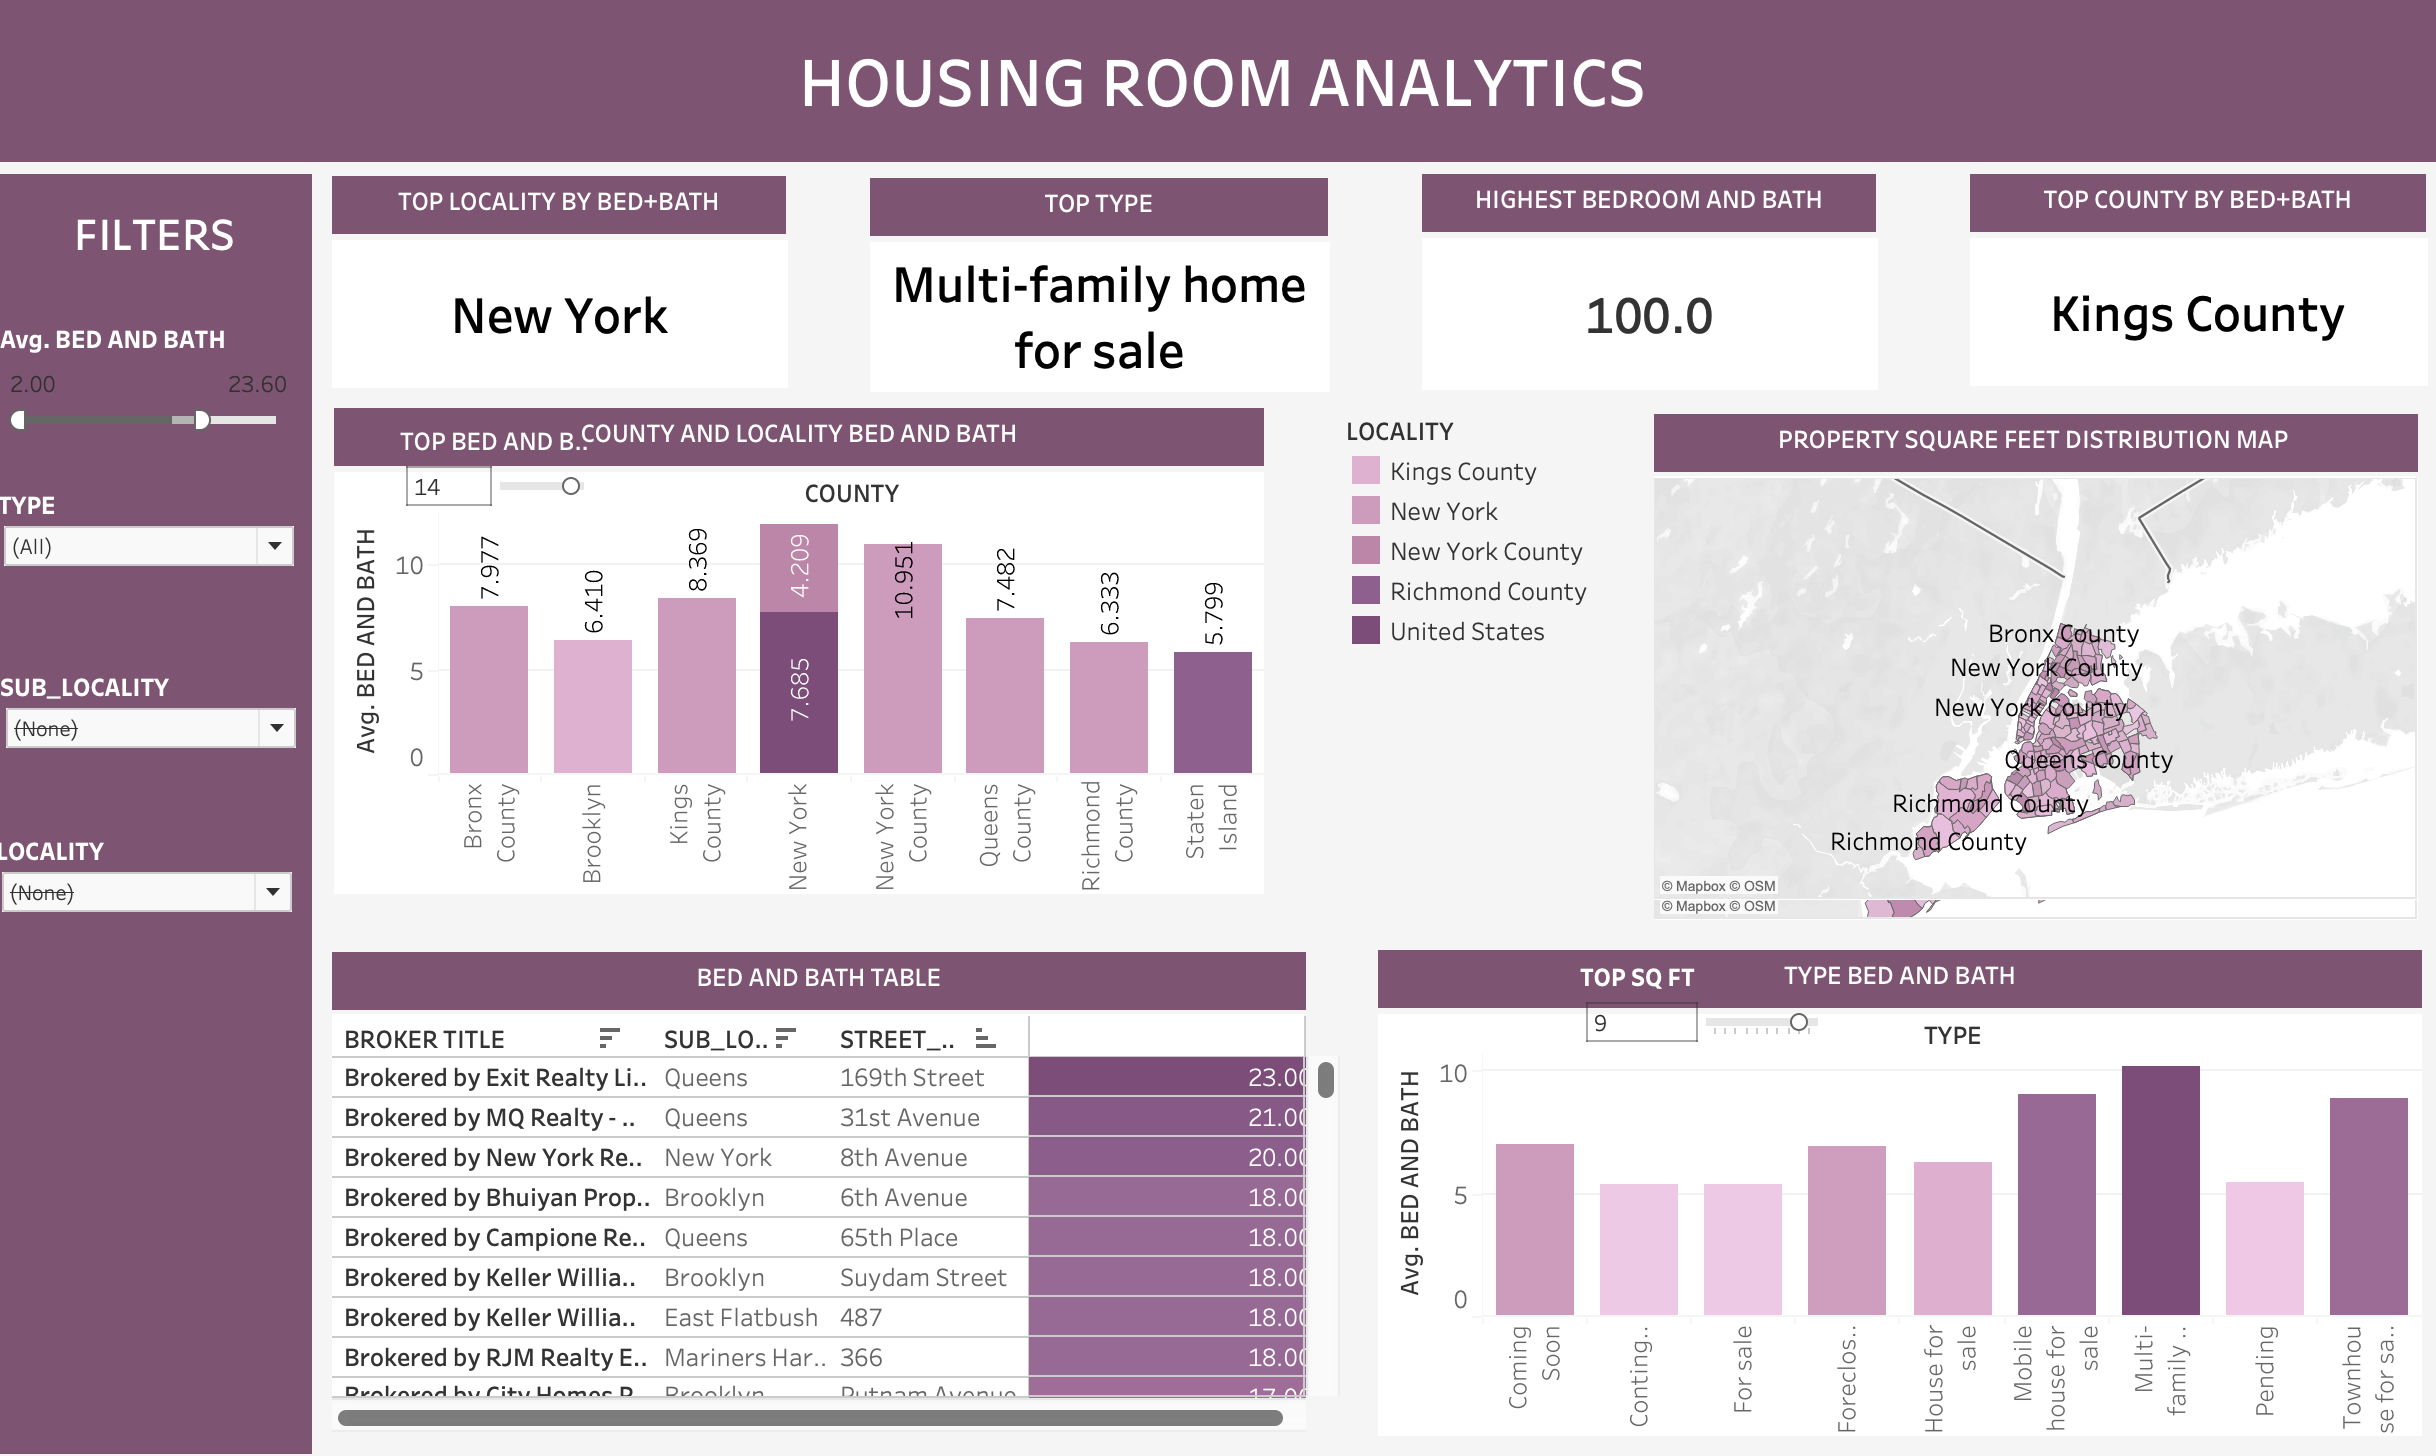

The dashboard page shown, as its layout file describes it:
{"tool":"tableau","page":{"name":"HOUSING ROOM ","canvas":[1000,1000],"units":"permille","ordinal":1},"visuals":[{"type":"text","box":[1.5,11.1,996.9,110.7]},{"type":"worksheet","title":"HIGH B+B","mark":"Automatic","box":[580.8,130.1,260.7,153.1]},{"type":"worksheet","title":"TOP LOCALITY BY B","mark":"Automatic","box":[137.9,131.4,285.3,215.6]},{"type":"worksheet","title":"TOP TYPE BY B","mark":"Automatic","box":[356.6,132.7,288.4,253.8]},{"type":"text","box":[2.3,142.7,127.6,57.8]},{"type":"filter","title":"B+B DISTRIBUTION","param":"[federated.0kvu42z1iqwr2r0zqkhqn0pgwafr].[avg:Calculation_4734409112868782080:qk","box":[3.1,231.2,123,75]},{"type":"worksheet","title":"COUNTY LOCALITY B","mark":"Automatic","rows":["Calculation_4734409112868782080"],"cols":["F12"],"box":[138.7,290.8,378,332.9]},{"type":"worksheet","title":"PRICE DISTRIBUTION","mark":"Automatic","box":[674.9,294,310.5,346.9]},{"type":"worksheet","title":"B+B DISTRIBUTION","mark":"Automatic","box":[674.9,294,310.5,333.3]},{"type":"legend","title":"COUNTY LOCALITY B","param":"[federated.0kvu42z1iqwr2r0zqkhqn0pgwafr].[none:F11:nk]","box":[550.4,295.2,107.6,180.8]},{"type":"parameter","param":"[Parameters].[Parameter 5]","box":[166,301.4,76.9,82.4]},{"type":"filter","title":"B+B DISTRIBUTION","param":"[federated.0kvu42z1iqwr2r0zqkhqn0pgwafr].[none:F2:nk]","box":[2.3,345.6,123,54.1]},{"type":"filter","title":"B+B DISTRIBUTION","param":"[federated.0kvu42z1iqwr2r0zqkhqn0pgwafr].[none:F13:nk]","box":[3.1,469.9,123,54.1]},{"type":"filter","title":"B+B DISTRIBUTION","param":"[federated.0kvu42z1iqwr2r0zqkhqn0pgwafr].[none:F11:nk]","box":[1.5,581.8,123,54.1]},{"type":"worksheet","title":"TYPE B+B","mark":"Automatic","rows":["Calculation_4734409112868782080"],"cols":["F2"],"box":[562.6,661.8,424.3,333.3]},{"type":"worksheet","title":"B TABLE","mark":"Square","rows":["F1","F13","F14"],"box":[138.4,663,409.7,328.4]},{"type":"parameter","param":"[Parameters].[Parameter 3]","box":[644.9,669.1,99.2,82.4]}]}

Visuals, with their boxes on the dashboard's canvas, which has no fixed pixel size, in thousandths of its width and height (x1, y1, x2, y2). These are canvas units, not pixel positions in the 2436x1456 screenshot, which may show the page scaled, cropped or inside an application window:
text: [x1=2, y1=11, x2=998, y2=122]
"HIGH B+B" worksheet: [x1=581, y1=130, x2=842, y2=283]
"TOP LOCALITY BY B" worksheet: [x1=138, y1=131, x2=423, y2=347]
"TOP TYPE BY B" worksheet: [x1=357, y1=133, x2=645, y2=386]
text: [x1=2, y1=143, x2=130, y2=200]
"B+B DISTRIBUTION" filter: [x1=3, y1=231, x2=126, y2=306]
"COUNTY LOCALITY B" worksheet: [x1=139, y1=291, x2=517, y2=624]
"PRICE DISTRIBUTION" worksheet: [x1=675, y1=294, x2=985, y2=641]
"B+B DISTRIBUTION" worksheet: [x1=675, y1=294, x2=985, y2=627]
"COUNTY LOCALITY B" legend: [x1=550, y1=295, x2=658, y2=476]
parameter: [x1=166, y1=301, x2=243, y2=384]
"B+B DISTRIBUTION" filter: [x1=2, y1=346, x2=125, y2=400]
"B+B DISTRIBUTION" filter: [x1=3, y1=470, x2=126, y2=524]
"B+B DISTRIBUTION" filter: [x1=2, y1=582, x2=124, y2=636]
"TYPE B+B" worksheet: [x1=563, y1=662, x2=987, y2=995]
"B TABLE" worksheet (Square marks): [x1=138, y1=663, x2=548, y2=991]
parameter: [x1=645, y1=669, x2=744, y2=752]
